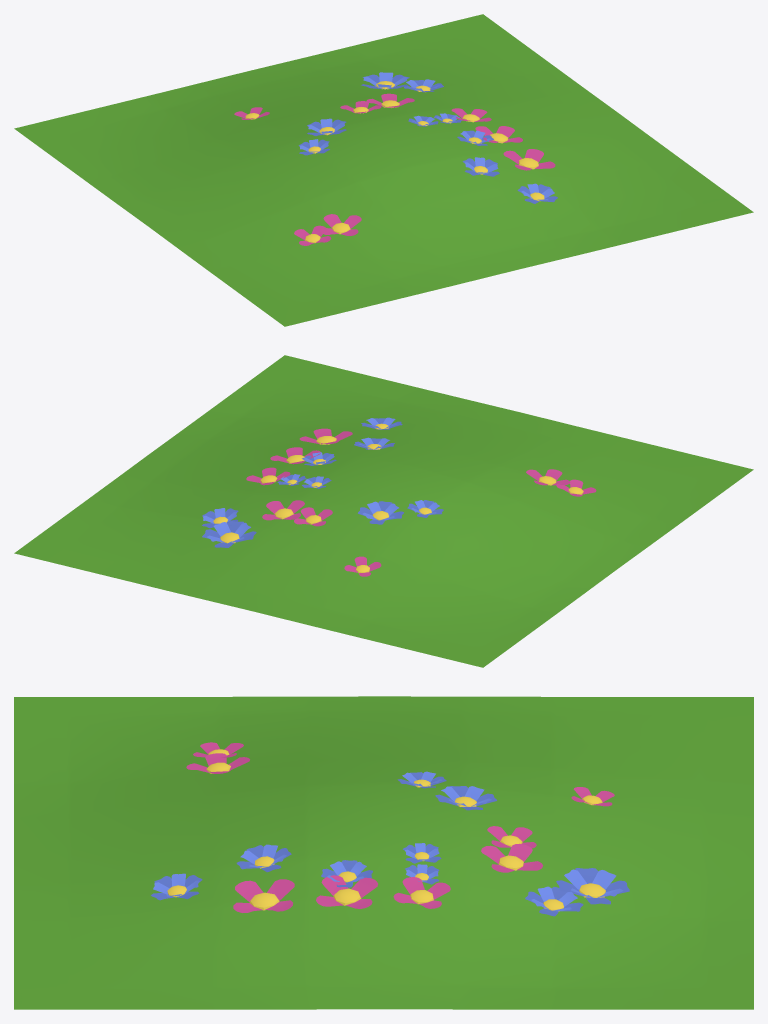
Rendered from meadow.glb.
The picture shows the model from 3 angles, top to bottom: view 1: azimuth 30°, elevation 25°; view 2: azimuth 150°, elevation 25°; view 3: azimuth 270°, elevation 25°; orthographic projection. The views are drawn at different scales.
Visible parts, largest first — view 1: meadow; view 2: meadow; view 3: meadow.
Boxes of the visible parts, x1,y1,x2,y2 form: meadow: [14, 14, 753, 326]; meadow: [14, 355, 753, 667]; meadow: [14, 696, 753, 1009].
Size of the model in its own units: 6 by 0.3789 by 6.
